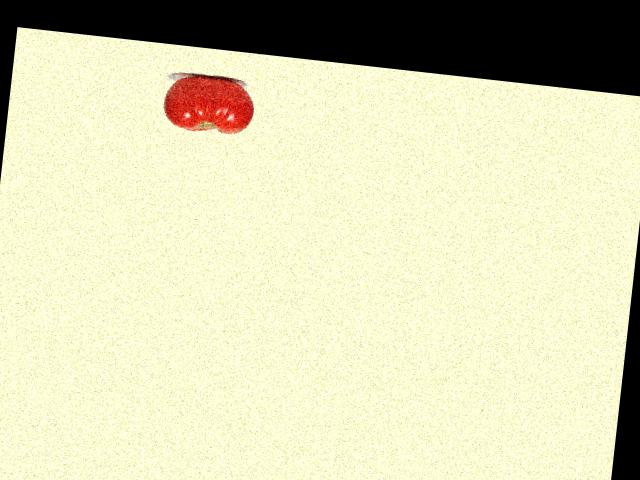tomato: (162, 72, 257, 137)
